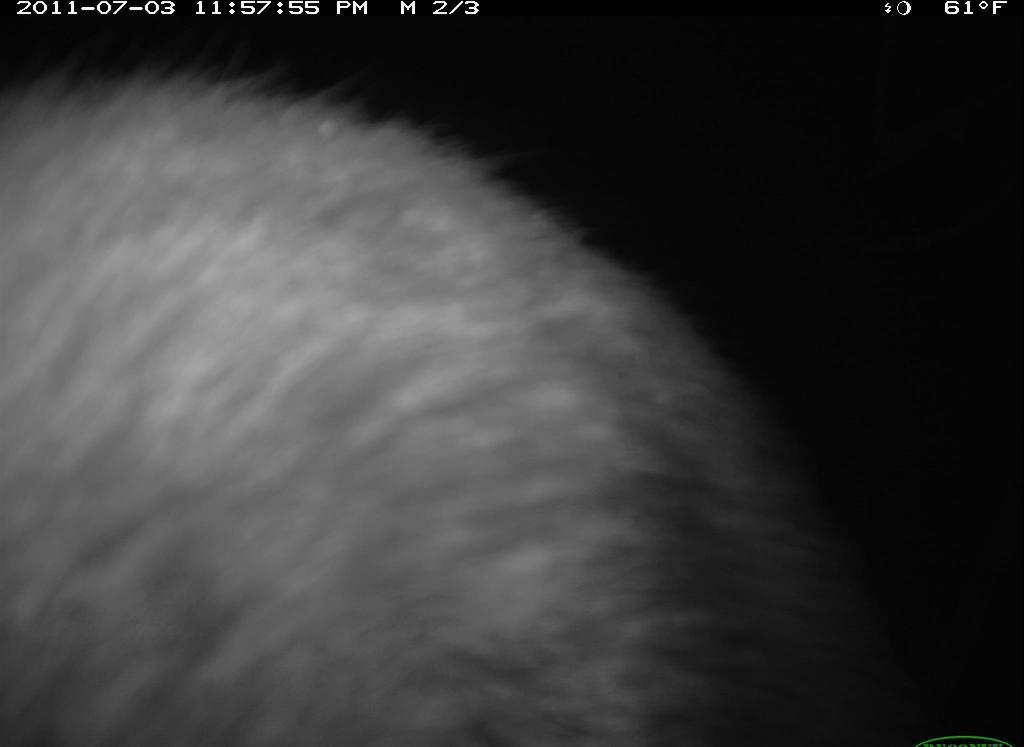raccoon: (3, 57, 937, 747)
